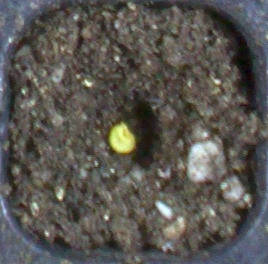chilli seed: (109, 123, 135, 154)
